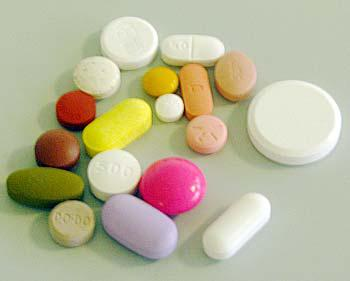tablet: (247, 76, 342, 166), (199, 190, 273, 262), (100, 193, 178, 261), (81, 95, 156, 153), (139, 156, 206, 215), (100, 16, 160, 71), (6, 166, 85, 204), (87, 147, 144, 199), (48, 198, 95, 247), (215, 51, 258, 104), (160, 34, 227, 66), (32, 127, 81, 169), (73, 55, 121, 97), (179, 65, 214, 120), (54, 87, 97, 130), (185, 115, 227, 154), (142, 65, 179, 100), (153, 93, 187, 123)
